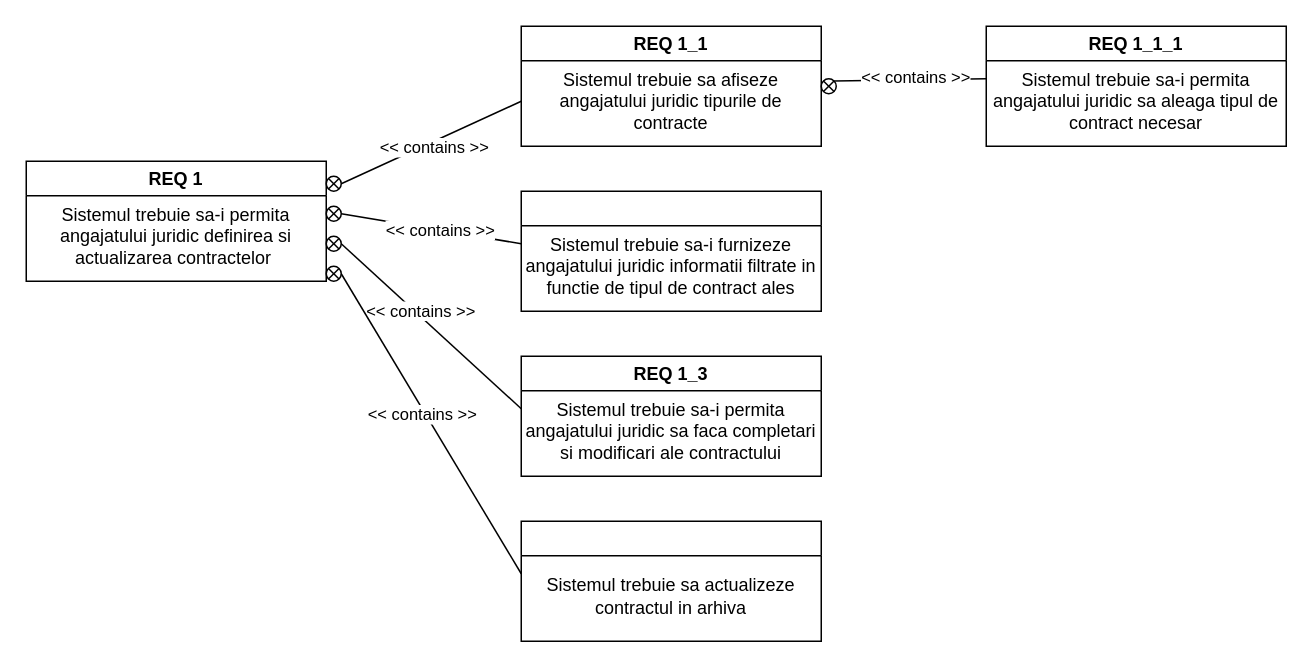
The diagram is 1313 pixels wide and 668 high, and some of its shapes have lost their labels. Each missing label, with the box of its shape:
REQ 1_2: (520, 190, 821, 311)
REQ 1_4: (520, 520, 821, 641)
